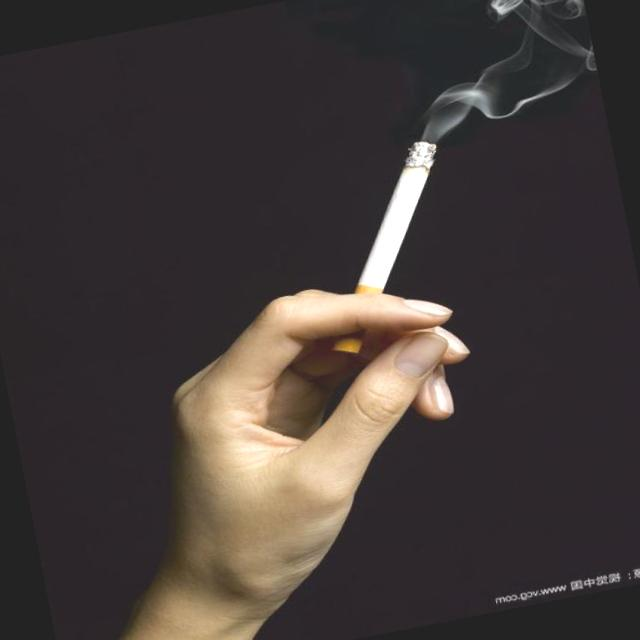cigarette: (322, 136, 468, 298)
